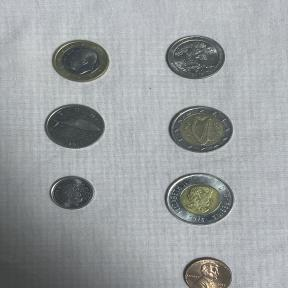coin: (159, 170, 238, 228), (164, 100, 236, 156), (42, 100, 108, 152), (162, 33, 228, 83), (48, 36, 112, 84), (176, 252, 235, 288), (45, 172, 97, 212)
